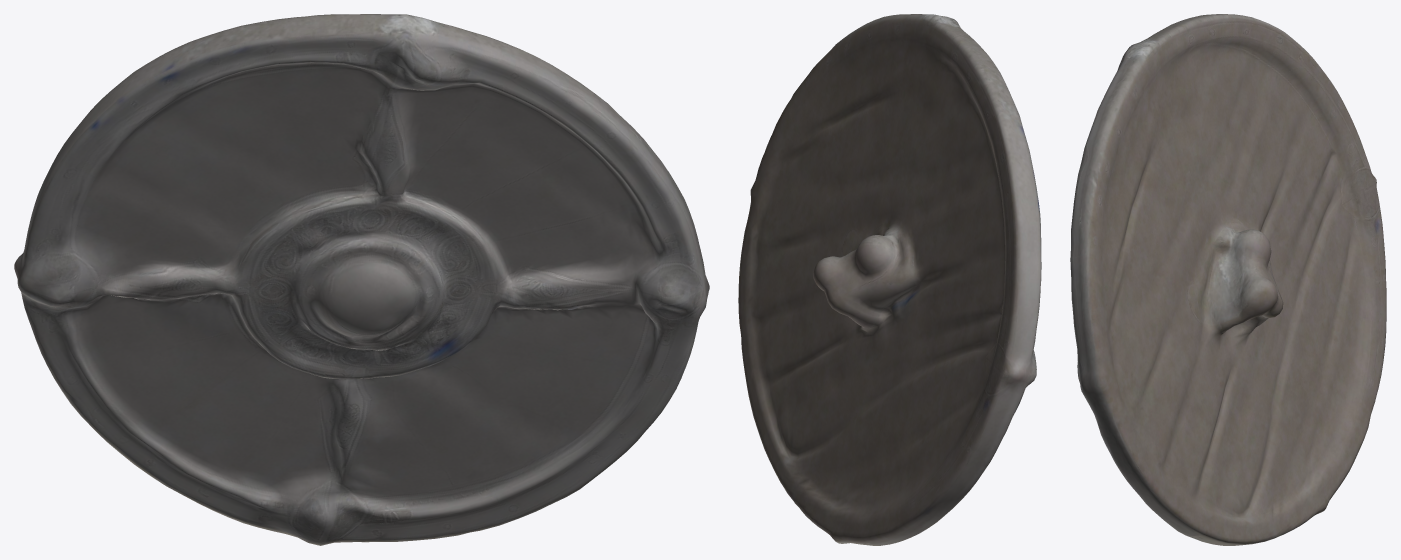
Rendered from Steel Shield.glb.
3 views of the same model, side by side, from view 1: azimuth 30°, elevation 25°; view 2: azimuth 150°, elevation 25°; view 3: azimuth 270°, elevation 25° (orthographic). The views are drawn at different scales.
Visible parts, largest first — view 1: file1; view 2: file1; view 3: file1.
Part boxes in pixels (left/top/right/bottom): file1: left=14, top=14, right=709, bottom=545; file1: left=738, top=14, right=1041, bottom=545; file1: left=1070, top=14, right=1386, bottom=545.
Bounding box in the file's own units: 1.81 × 1.98 × 1.22.
1 material, 1 textured.
